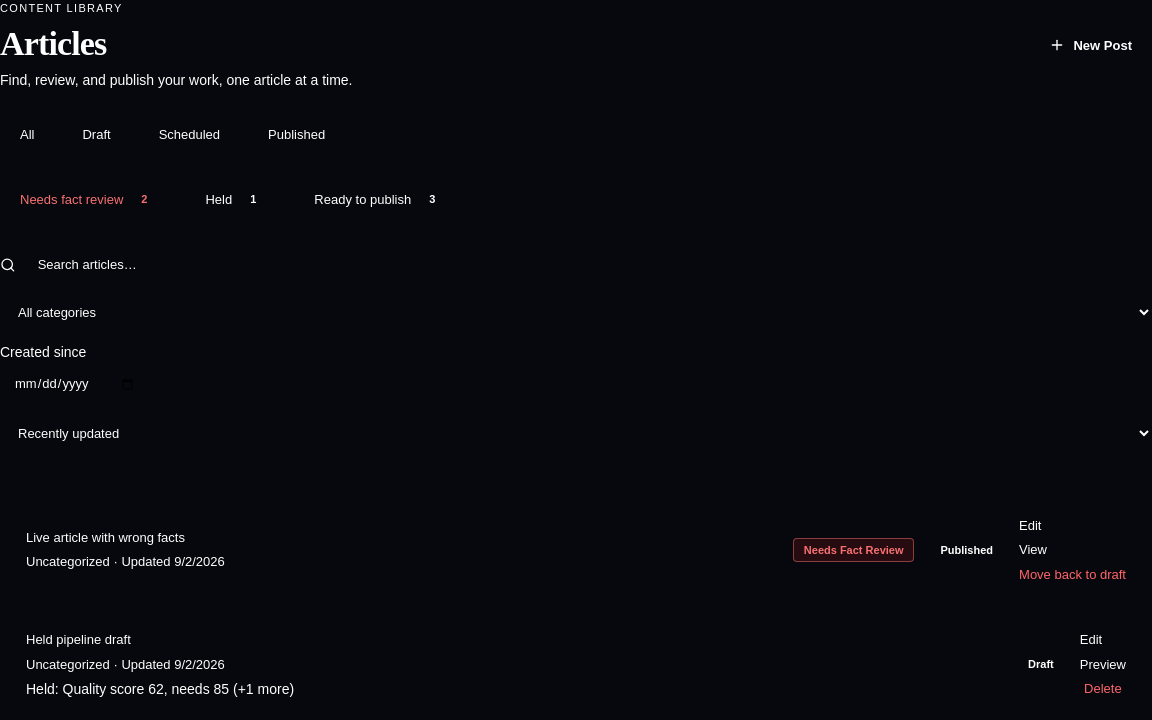
Test: fact review, holds and one-at-a-time publishing › moves a flagged live article back to draft through the unpublish flow
Later steps or results of the test are not shown.
Step 1. Click the button "Move back to draft" → (1072, 574), box [1019,565,1126,584]
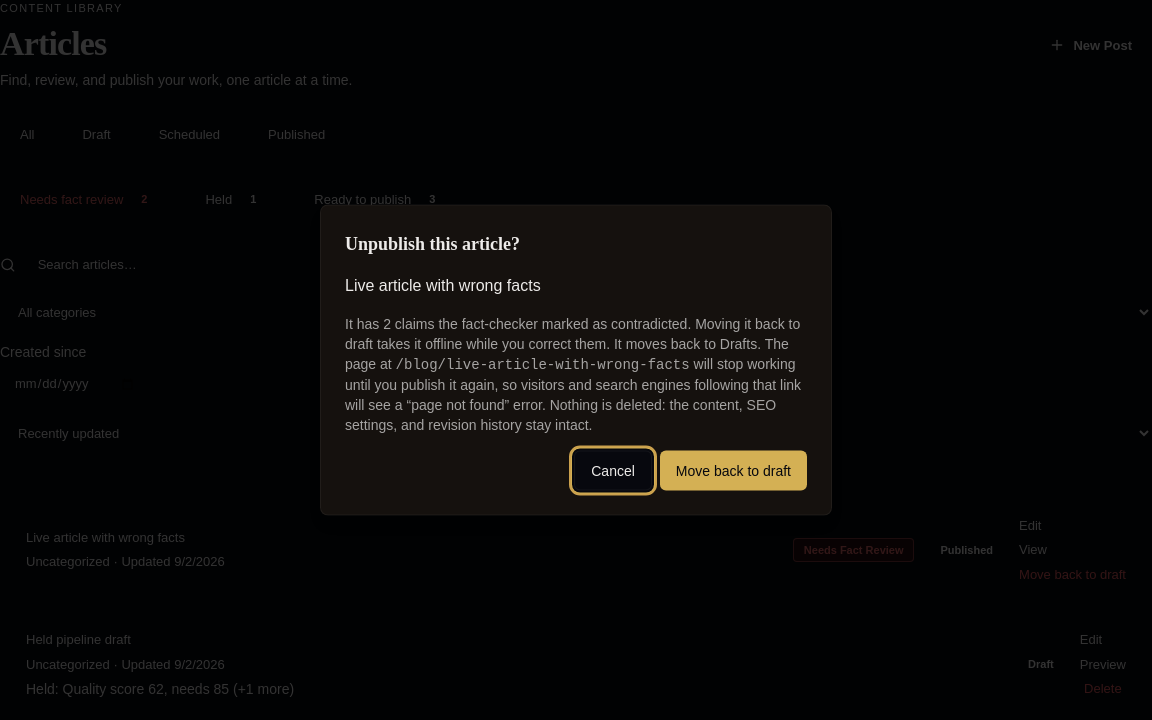
Expected: the dialog shows "2 claims", [383,316,687,332]
